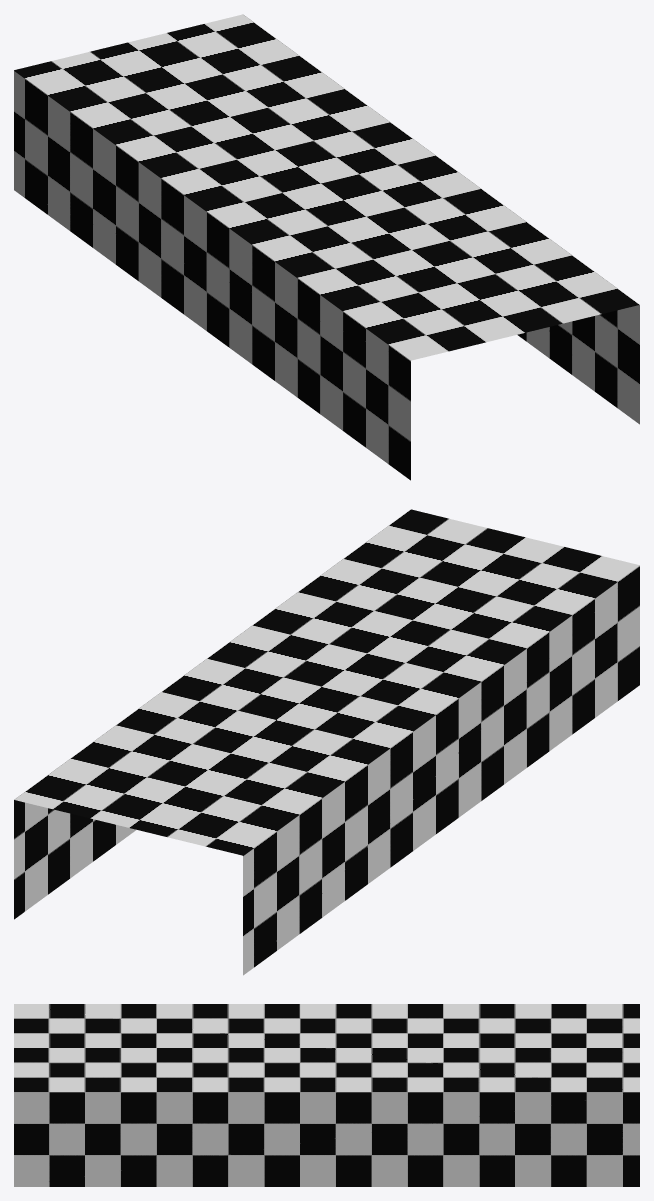
File: Finish_line_platform.fbx
3 renders of one model, top to bottom at view 1: azimuth 30°, elevation 25°; view 2: azimuth 150°, elevation 25°; view 3: azimuth 270°, elevation 25°, orthographic. The views are drawn at different scales.
Parts seen in each view (by area): view 1: Finish_line_platform; view 2: Finish_line_platform; view 3: Finish_line_platform.
Part boxes in pixels (x1,y1,x2,y2): Finish_line_platform: (14,14,639,480); Finish_line_platform: (14,509,639,975); Finish_line_platform: (14,1004,639,1186).
Size of the model in its own units: 2000 by 1000 by 6000.
